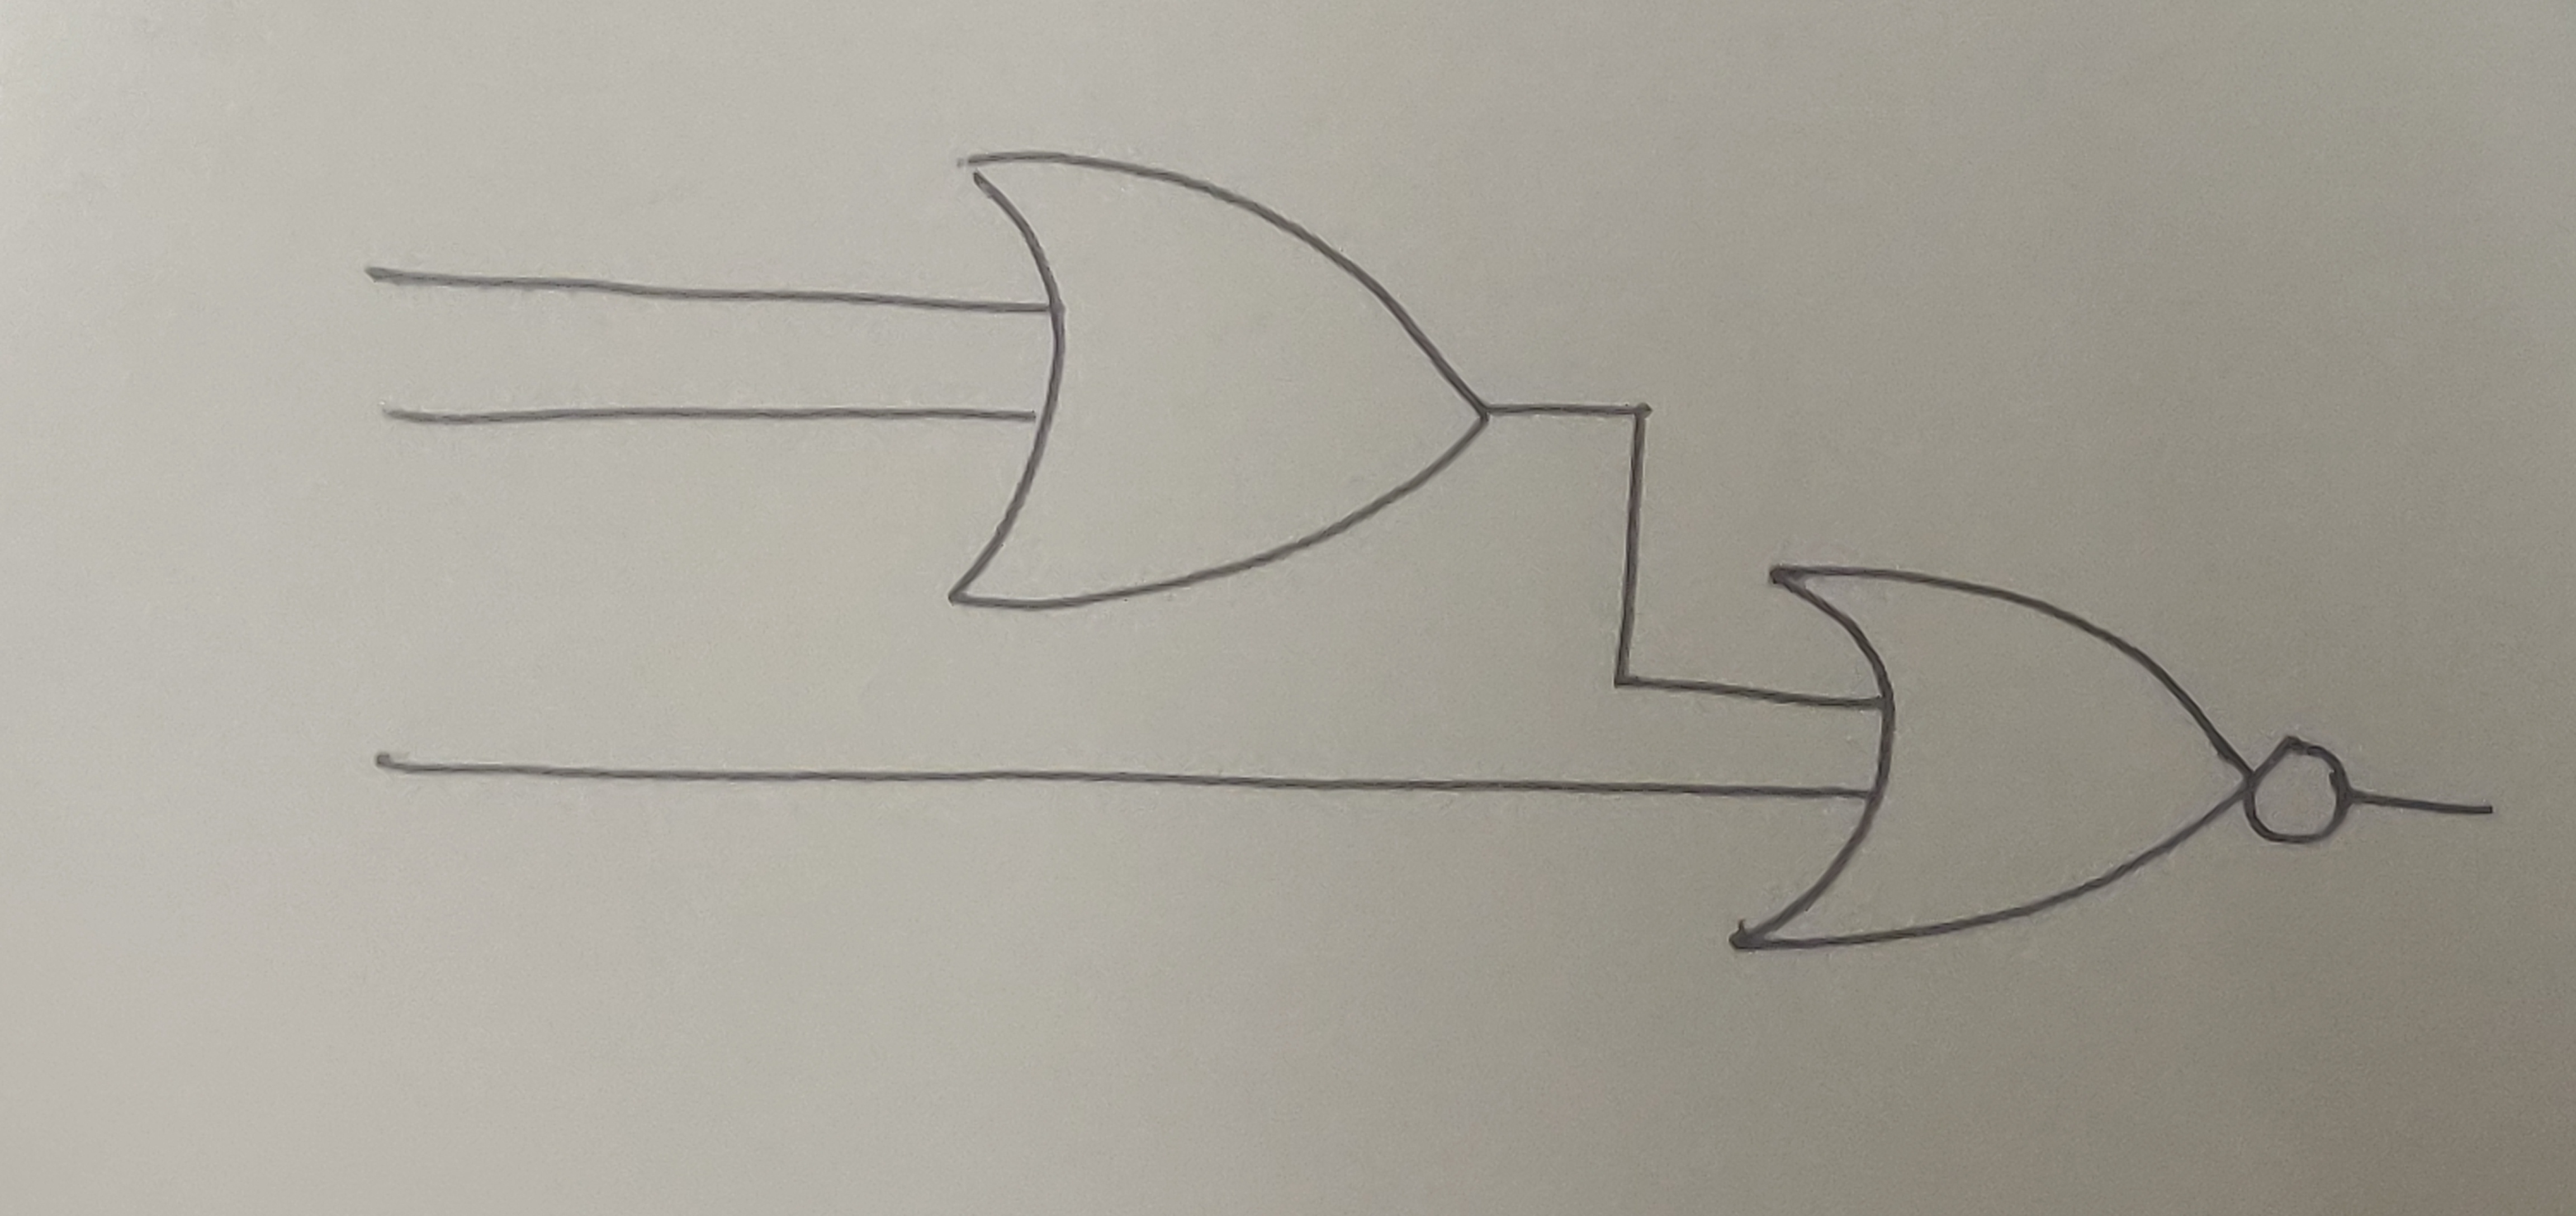not: (2244, 733, 2356, 858)
or: (951, 148, 1492, 621), (1728, 555, 2251, 950)
